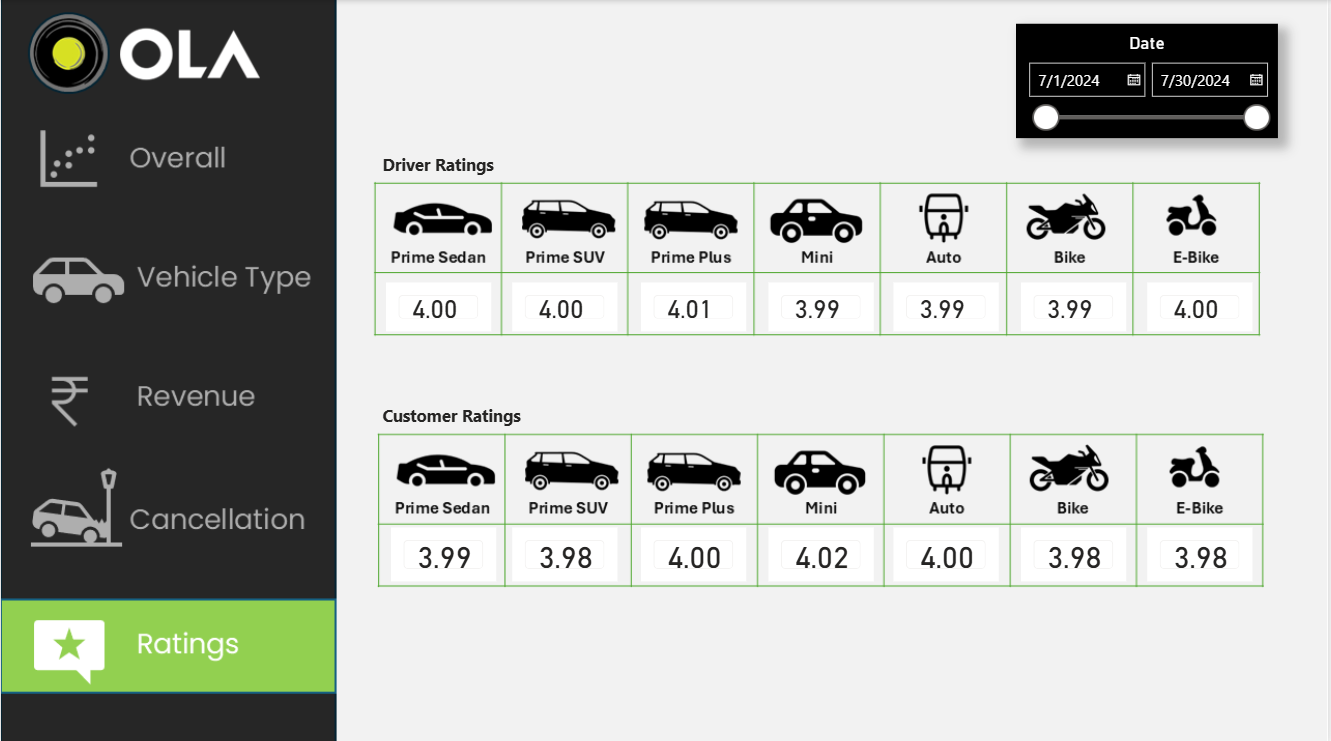

The page's visual inventory and layout, read from the dashboard file:
{"tool":"powerbi","page":{"name":"Ratings","canvas":[1280,720],"ordinal":4},"visuals":[{"type":"actionButton","box":[0,220.8,324.5,92.2],"z":0},{"type":"actionButton","box":[0,338.7,324.5,92.2],"z":1000},{"type":"actionButton","box":[0,449.6,324.5,92.2],"z":2000},{"type":"actionButton","box":[0,104.6,324.5,92.2],"z":3000},{"type":"cardVisual","fields":{"Data":["Avg(July.Driver_Ratings)"]},"box":[367.3,267.3,111.2,57.1],"z":3001},{"type":"cardVisual","fields":{"Data":["Avg(July.Driver_Ratings)"]},"box":[488.8,267.3,111.2,57.1],"z":3002},{"type":"cardVisual","fields":{"Data":["Avg(July.Driver_Ratings)"]},"box":[613.3,267.3,111.2,57.1],"z":3003},{"type":"cardVisual","fields":{"Data":["Avg(July.Driver_Ratings)"]},"box":[735.7,267.3,111.2,57.1],"z":3004},{"type":"cardVisual","fields":{"Data":["Avg(July.Driver_Ratings)"]},"box":[1102,267.3,111.2,57.1],"z":3005},{"type":"cardVisual","fields":{"Data":["Avg(July.Driver_Ratings)"]},"box":[979.6,267.3,111.2,57.1],"z":3006},{"type":"cardVisual","fields":{"Data":["Avg(July.Driver_Ratings)"]},"box":[856.1,267.3,111.2,57.1],"z":3007},{"type":"textbox","box":[363.3,141.8,119.4,34.7],"z":3008},{"type":"textbox","box":[363.3,384.7,150,32.7],"z":3009},{"type":"cardVisual","fields":{"Data":["Avg(July.Customer_Rating)"]},"box":[371.4,504.1,111.2,62.2],"z":3010},{"type":"cardVisual","fields":{"Data":["Avg(July.Customer_Rating)"]},"box":[488.8,504.1,111.2,62.2],"z":3011},{"type":"cardVisual","fields":{"Data":["Avg(July.Customer_Rating)"]},"box":[613.3,504.1,111.2,62.2],"z":3012},{"type":"cardVisual","fields":{"Data":["Avg(July.Customer_Rating)"]},"box":[735.7,504.1,111.2,62.2],"z":3013},{"type":"cardVisual","fields":{"Data":["Avg(July.Customer_Rating)"]},"box":[856.1,504.1,111.2,62.2],"z":3014},{"type":"cardVisual","fields":{"Data":["Avg(July.Customer_Rating)"]},"box":[1102,504.1,111.2,62.2],"z":3015},{"type":"cardVisual","fields":{"Data":["Avg(July.Customer_Rating)"]},"box":[979.6,504.1,111.2,62.2],"z":3016},{"type":"slicer","title":"Date","fields":{"Values":["July.Date"]},"box":[979.6,22.4,253.1,110.2],"z":3017}]}

Visuals, with their boxes on the page's 1280x720 design canvas (x1, y1, x2, y2). These are canvas units, not pixel positions in the 1331x741 screenshot, which may show the page scaled, cropped or inside an application window:
actionButton: bbox=[0, 221, 324, 313]
actionButton: bbox=[0, 339, 324, 431]
actionButton: bbox=[0, 450, 324, 542]
actionButton: bbox=[0, 105, 324, 197]
cardVisual - Avg(July.Driver_Ratings): bbox=[367, 267, 478, 324]
cardVisual - Avg(July.Driver_Ratings): bbox=[489, 267, 600, 324]
cardVisual - Avg(July.Driver_Ratings): bbox=[613, 267, 724, 324]
cardVisual - Avg(July.Driver_Ratings): bbox=[736, 267, 847, 324]
cardVisual - Avg(July.Driver_Ratings): bbox=[1102, 267, 1213, 324]
cardVisual - Avg(July.Driver_Ratings): bbox=[980, 267, 1091, 324]
cardVisual - Avg(July.Driver_Ratings): bbox=[856, 267, 967, 324]
textbox: bbox=[363, 142, 483, 176]
textbox: bbox=[363, 385, 513, 417]
cardVisual - Avg(July.Customer_Rating): bbox=[371, 504, 483, 566]
cardVisual - Avg(July.Customer_Rating): bbox=[489, 504, 600, 566]
cardVisual - Avg(July.Customer_Rating): bbox=[613, 504, 724, 566]
cardVisual - Avg(July.Customer_Rating): bbox=[736, 504, 847, 566]
cardVisual - Avg(July.Customer_Rating): bbox=[856, 504, 967, 566]
cardVisual - Avg(July.Customer_Rating): bbox=[1102, 504, 1213, 566]
cardVisual - Avg(July.Customer_Rating): bbox=[980, 504, 1091, 566]
"Date" slicer: bbox=[980, 22, 1233, 133]
